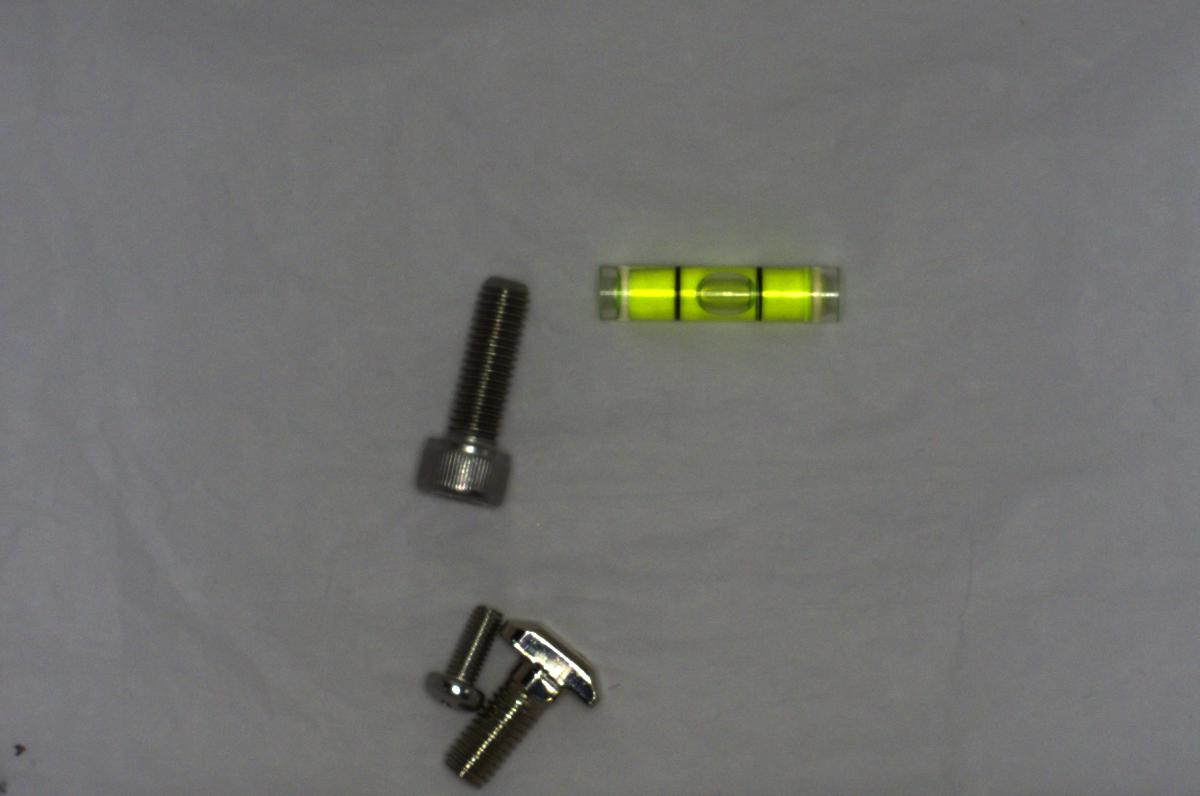Hexagon screw: (399, 272, 537, 514)
Horizontal bubble: (592, 253, 854, 328)
Round head screw: (418, 598, 505, 709)
T-shaped screw: (441, 625, 608, 785)
